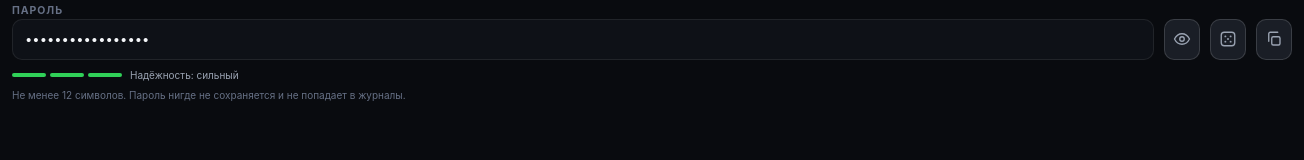
Test: reports clipboard failure without claiming success
Step 1. Click the button named "Скопировать пароль" → (1274, 39), box 1256,19 -> 1292,60
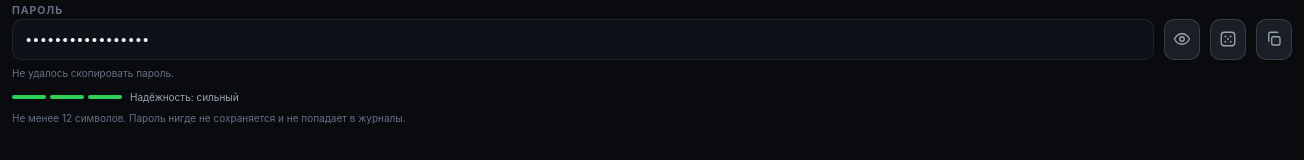
Expected: the text "Не удалось скопировать пароль." is shown, 12,67 -> 174,79
